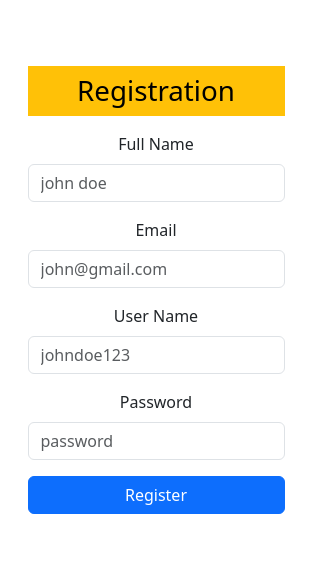
Test: Register Page › shows validation errors on missing fields
Click the button "Register".
click(156, 495)  # box x1=28 y1=476 x2=284 y2=514
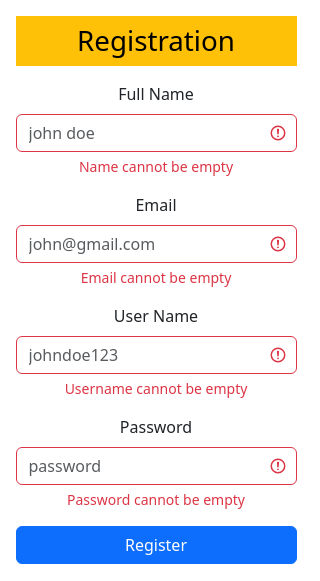
expect the text "Name cannot be empty" is shown 4 times: met, box x1=79 y1=157 x2=233 y2=176; x1=81 y1=268 x2=231 y2=287; x1=65 y1=379 x2=247 y2=398; x1=67 y1=490 x2=245 y2=509
